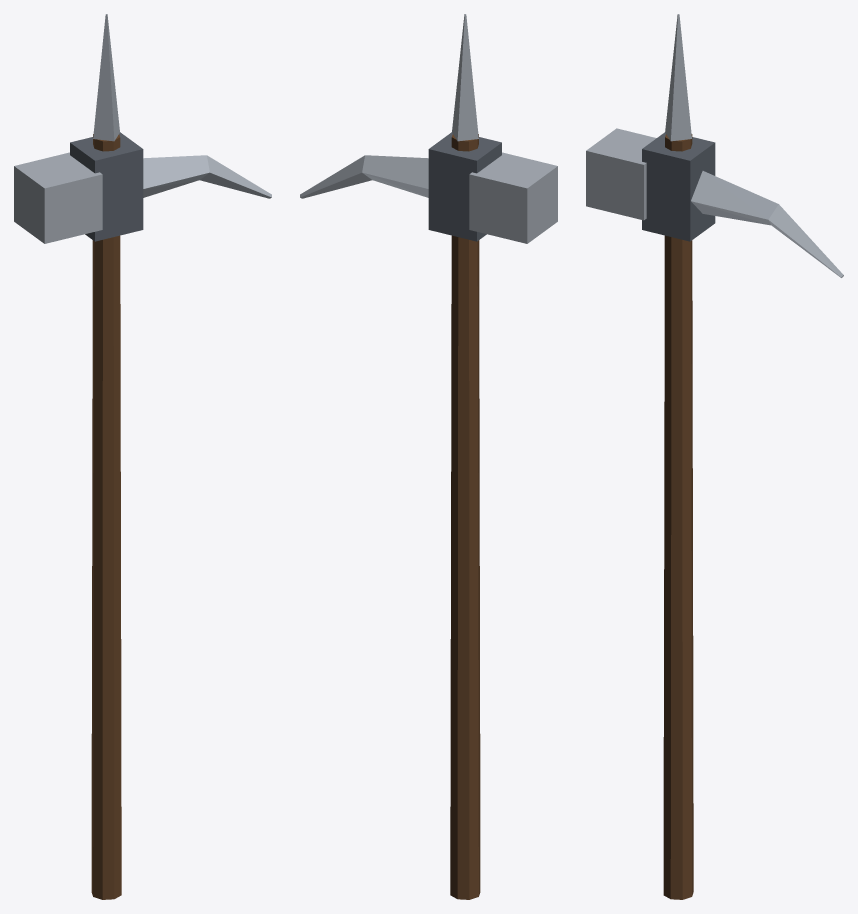
Rendered from g-warpick-beak.glb.
3 views of the same model, side by side, from view 1: azimuth 30°, elevation 25°; view 2: azimuth 150°, elevation 25°; view 3: azimuth 330°, elevation 25° (orthographic).
Visible parts, largest first — view 1: g-warpick-beak; view 2: g-warpick-beak; view 3: g-warpick-beak.
Boxes of the visible parts, x1,y1,x2,y2 form: g-warpick-beak: (14,14,271,899); g-warpick-beak: (300,14,557,899); g-warpick-beak: (586,14,843,899).
Size of the model in its own units: 0.2512 by 0.87 by 0.055.
